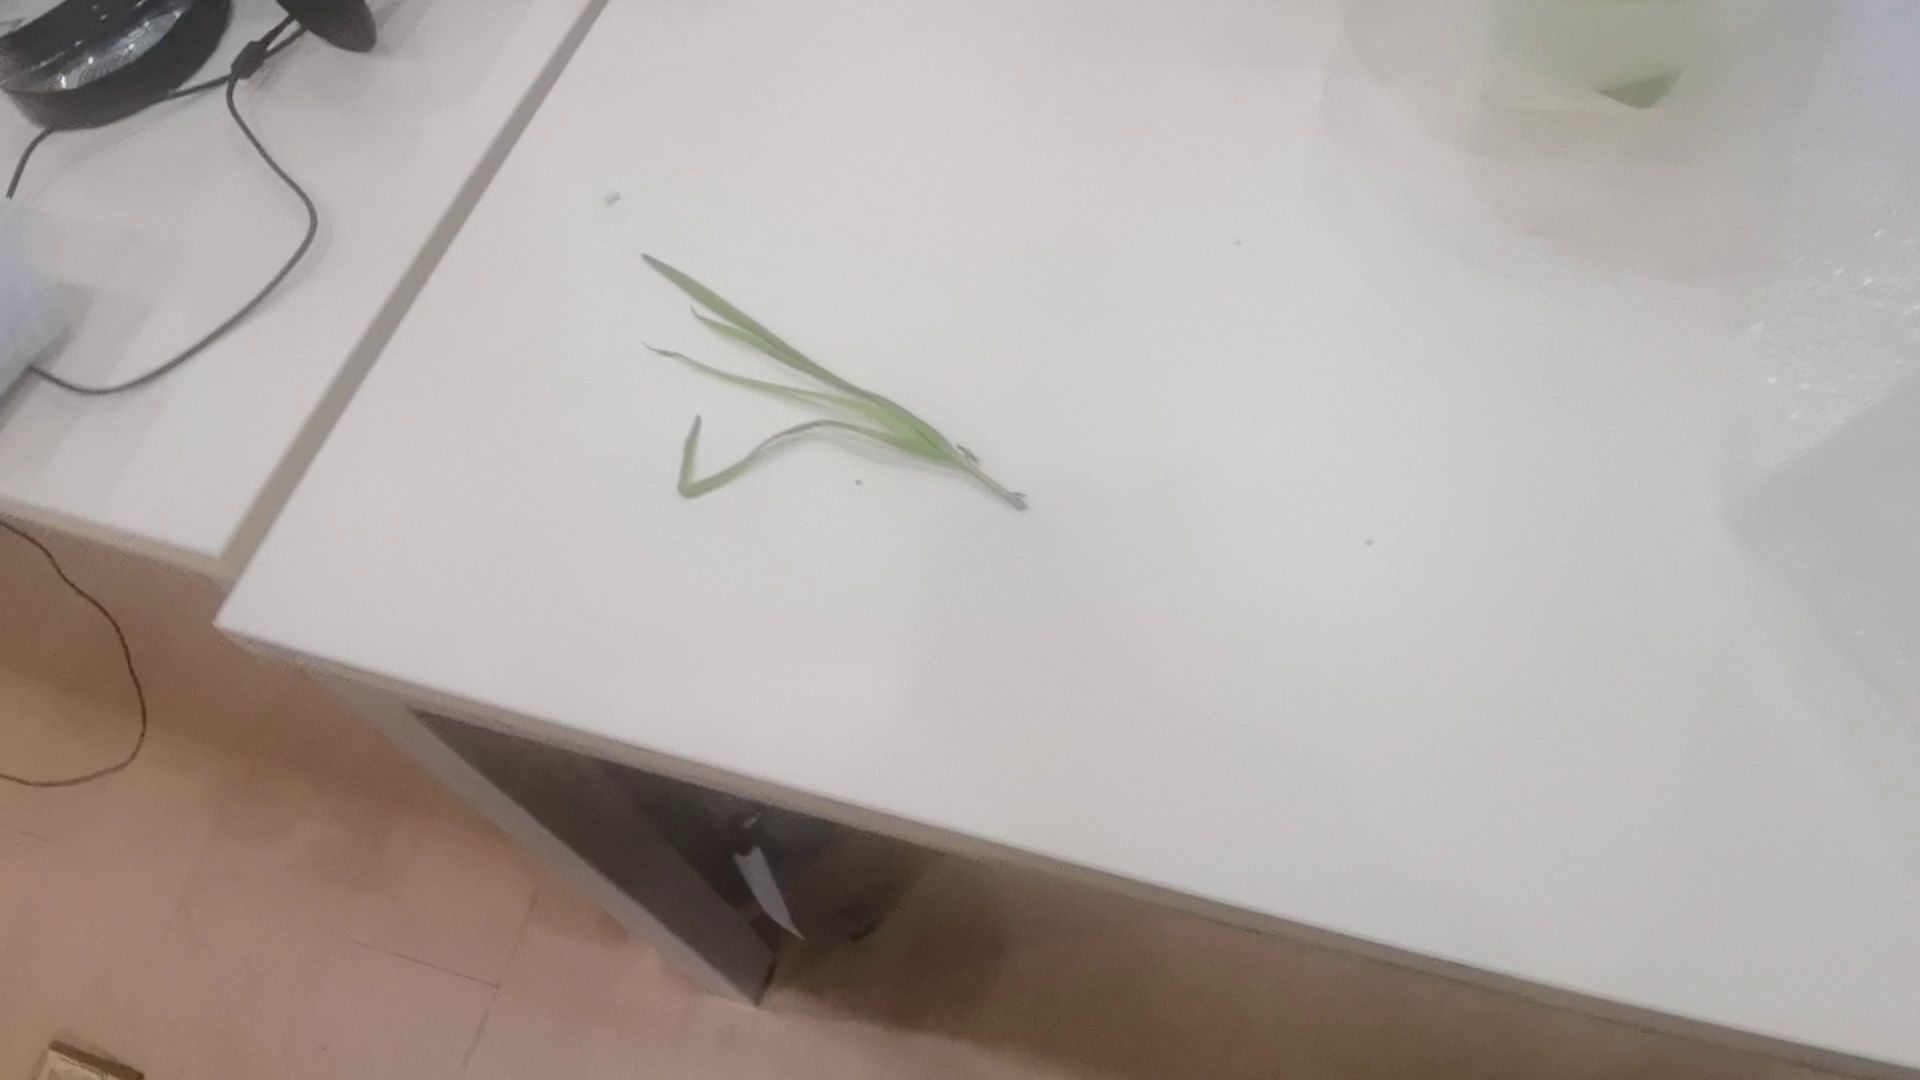chives: (634, 251, 1048, 512)
